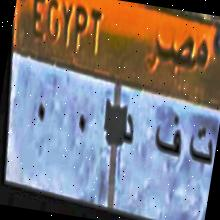0: (26, 97, 52, 134), (72, 106, 94, 138)
daal: (118, 106, 139, 146)
faa: (150, 110, 186, 160)
taa: (180, 125, 218, 178)
